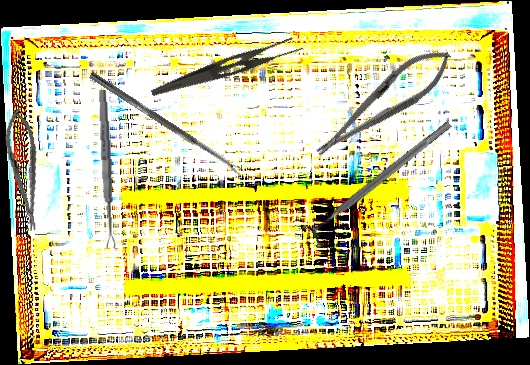Dressing Forceps: (150, 28, 305, 113)
Fixation Ring: (300, 113, 459, 249)
Needle Holder: (304, 36, 462, 170), (0, 107, 48, 233)
Surgical Spoon: (88, 71, 244, 177), (96, 89, 117, 249)
